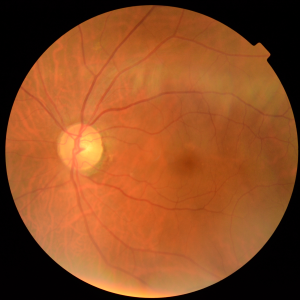healthy_eye: (37, 86, 270, 214)
